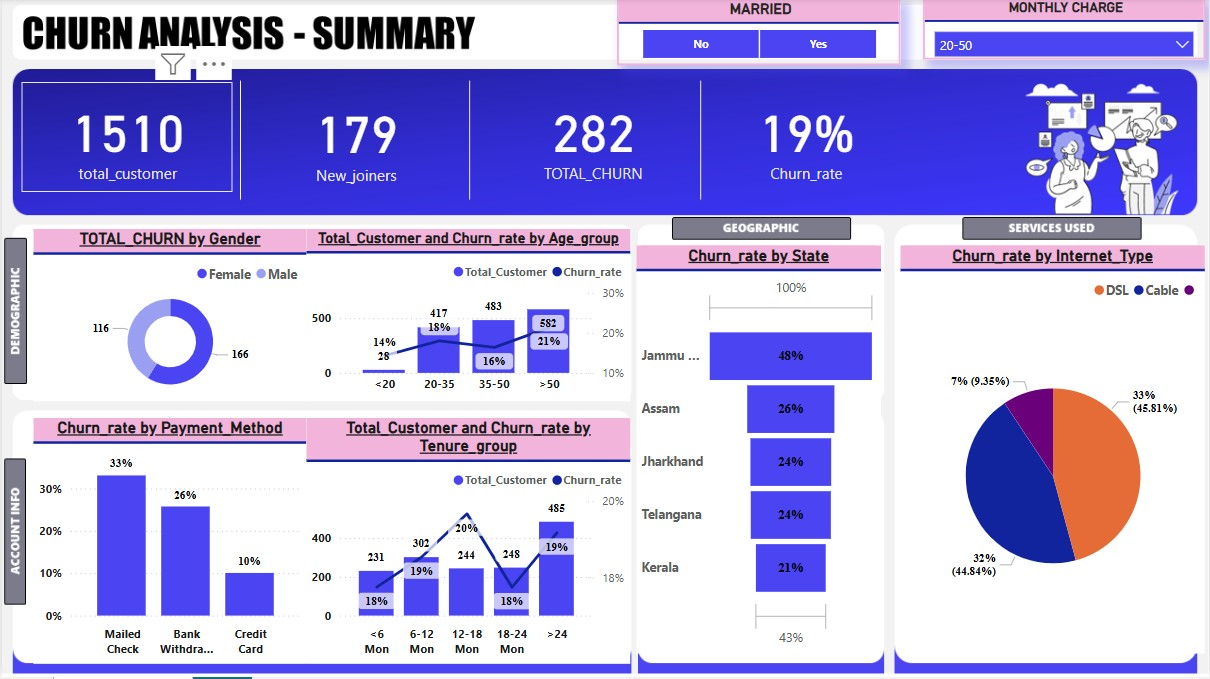

What the dashboard file says about the page in this screenshot:
{"tool":"powerbi","page":{"name":"Summary","canvas":[1280,720],"ordinal":0},"visuals":[{"type":"card","fields":{"Values":["measures (2).total_customer"]},"box":[20.7,89.1,224.3,116.1],"z":0},{"type":"card","fields":{"Values":["measures (2).New_joiners"]},"box":[268.8,90.7,213.1,116.1],"z":1000},{"type":"card","fields":{"Values":["measures (2).TOTAL_CHURN"]},"box":[510.6,89.1,232.2,116.1],"z":2000},{"type":"card","fields":{"Values":["measures (2).Churn_rate"]},"box":[742.8,90.7,219.5,112.9],"z":3000},{"type":"donutChart","fields":{"Category":["Customer_Data.Gender"],"Y":["measures (2).TOTAL_CHURN"]},"box":[33.4,245,289.5,182.9],"z":4000},{"type":"columnChart","fields":{"Category":["Customer_Data.Payment_Method"],"Y":["measures (2).Churn_rate"]},"box":[33.4,445.4,289.5,260.9],"z":5000},{"type":"pieChart","fields":{"Category":["Customer_Data.Internet_Type"],"Y":["measures (2).Churn_rate"]},"box":[952.8,262.5,322.9,432.6],"z":6000},{"type":"lineStackedColumnComboChart","fields":{"Category":["Age_reference.Age_group"],"Y2":["measures (2).Churn_rate"],"Y":["measures (2).total_customer"]},"box":[322.9,245,343.6,182.9],"z":7000},{"type":"lineStackedColumnComboChart","fields":{"Category":["Tenure_refrence.Tenure_group"],"Y":["measures (2).total_customer"],"Y2":["measures (2).Churn_rate"]},"box":[322.9,445.4,343.6,260.9],"z":8000},{"type":"funnel","fields":{"Category":["Customer_Data.State"],"Y":["measures (2).Churn_rate"]},"box":[672.8,262.5,259.3,432.6],"z":9000},{"type":"slicer","title":"MONTHLY CHARGE","fields":{"Values":["Customer_Data.monthly_charge_status"]},"box":[976.6,0,299,65.2],"z":12000},{"type":"slicer","title":"MARRIED","fields":{"Values":["Customer_Data.Married"]},"box":[652.2,0,300.6,71.6],"z":13000}]}

Visuals, with their boxes in screenshot pixels (x1, y1, x2, y2), scaled from the page's 1280x720 canvas onto the 1210x679 screenshot:
card - measures (2).total_customer: x1=20, y1=84, x2=232, y2=194
card - measures (2).New_joiners: x1=254, y1=86, x2=456, y2=195
card - measures (2).TOTAL_CHURN: x1=483, y1=84, x2=702, y2=194
card - measures (2).Churn_rate: x1=702, y1=86, x2=910, y2=192
donutChart - Customer_Data.Gender x measures (2).TOTAL_CHURN: x1=32, y1=231, x2=305, y2=404
columnChart - Customer_Data.Payment_Method x measures (2).Churn_rate: x1=32, y1=420, x2=305, y2=666
pieChart - Customer_Data.Internet_Type x measures (2).Churn_rate: x1=901, y1=248, x2=1206, y2=656
lineStackedColumnComboChart - Age_reference.Age_group x measures (2).Churn_rate: x1=305, y1=231, x2=630, y2=404
lineStackedColumnComboChart - Tenure_refrence.Tenure_group x measures (2).total_customer: x1=305, y1=420, x2=630, y2=666
funnel - Customer_Data.State x measures (2).Churn_rate: x1=636, y1=248, x2=881, y2=656
"MONTHLY CHARGE" slicer: x1=923, y1=0, x2=1206, y2=61
"MARRIED" slicer: x1=617, y1=0, x2=901, y2=68
